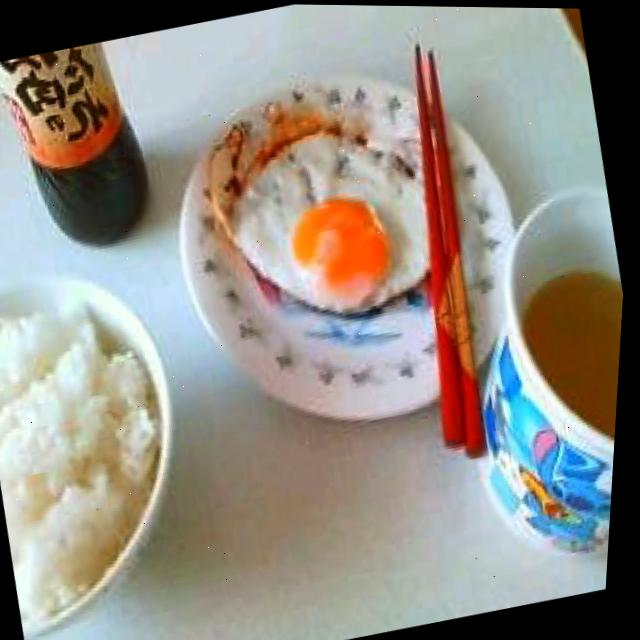鸡蛋料理: (172, 70, 485, 353)
